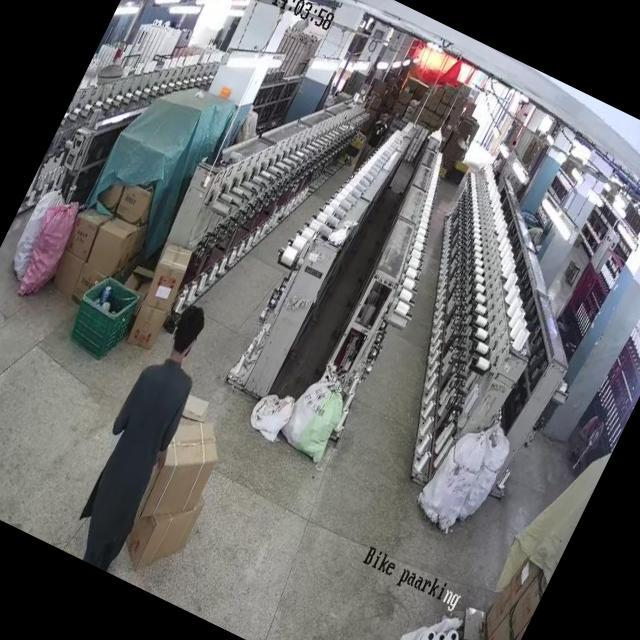person: (64, 302, 238, 566), (358, 106, 396, 162)
